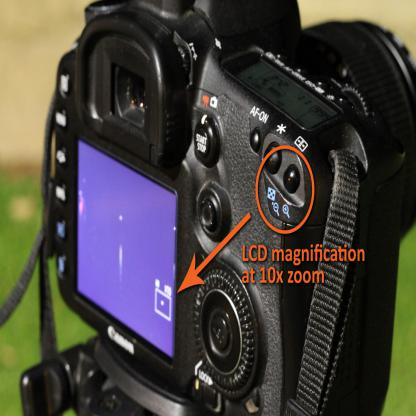Camera: (39, 1, 416, 416)
